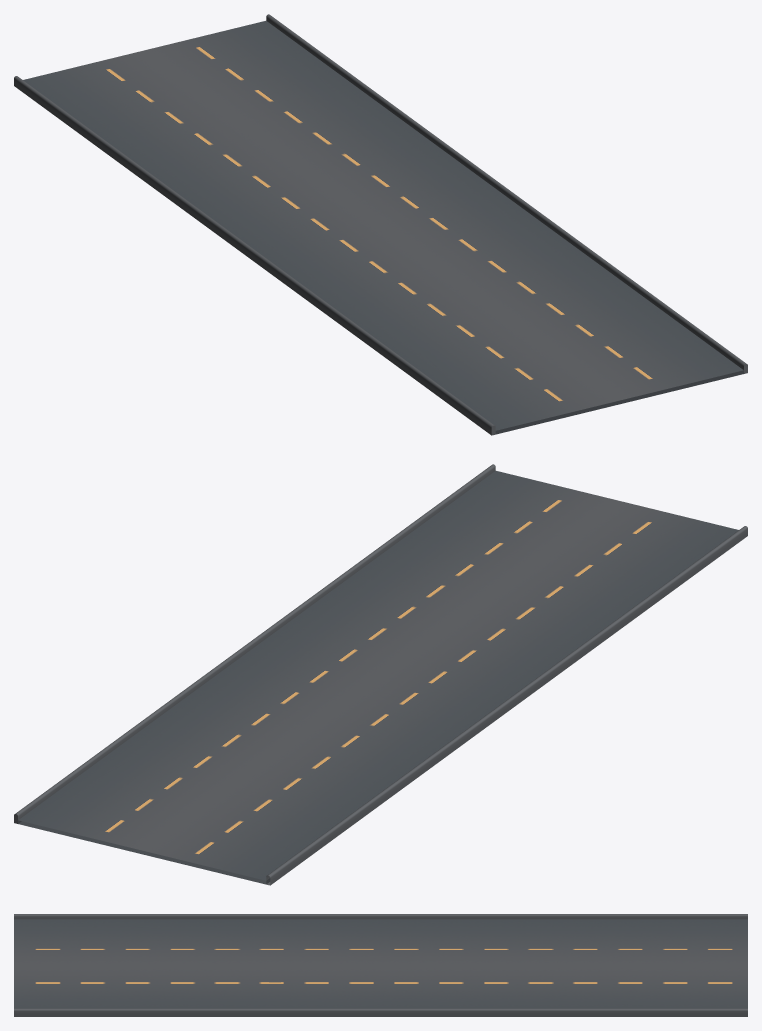
File: AddiotinalPiecePath.fbx
3 renders of one model, top to bottom at view 1: azimuth 30°, elevation 25°; view 2: azimuth 150°, elevation 25°; view 3: azimuth 270°, elevation 25°, orthographic. The views are drawn at different scales.
Visible parts, largest first — view 1: PathLevel1.015; view 2: PathLevel1.015; view 3: PathLevel1.015.
Part boxes in pixels (x1,y1,x2,y2): PathLevel1.015: (14, 14, 747, 435); PathLevel1.015: (14, 464, 747, 885); PathLevel1.015: (14, 914, 747, 1016).
Size of the model in its own units: 620 by 21.99 by 2002.
